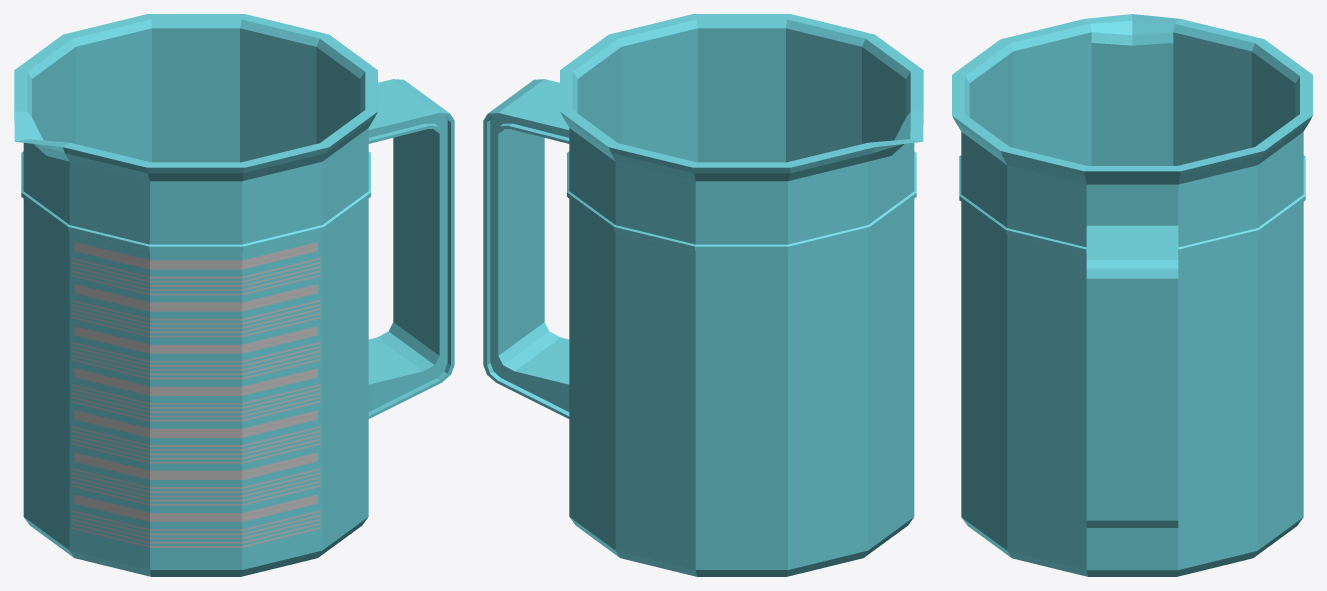
The model's file is SM_Beaker_03_B.gltf.
3 renders of one model, left to right at view 1: azimuth 30°, elevation 25°; view 2: azimuth 150°, elevation 25°; view 3: azimuth 270°, elevation 25°, orthographic.
Visible parts, largest first — view 1: SM_Beaker_03_B; view 2: SM_Beaker_03_B; view 3: SM_Beaker_03_B.
Boxes of the visible parts, x1=… form: SM_Beaker_03_B: x1=14, y1=14, x2=454, y2=576; SM_Beaker_03_B: x1=483, y1=14, x2=923, y2=576; SM_Beaker_03_B: x1=952, y1=14, x2=1312, y2=576.
Size of the model in its own units: 0.2311 by 0.2224 by 0.1747.
